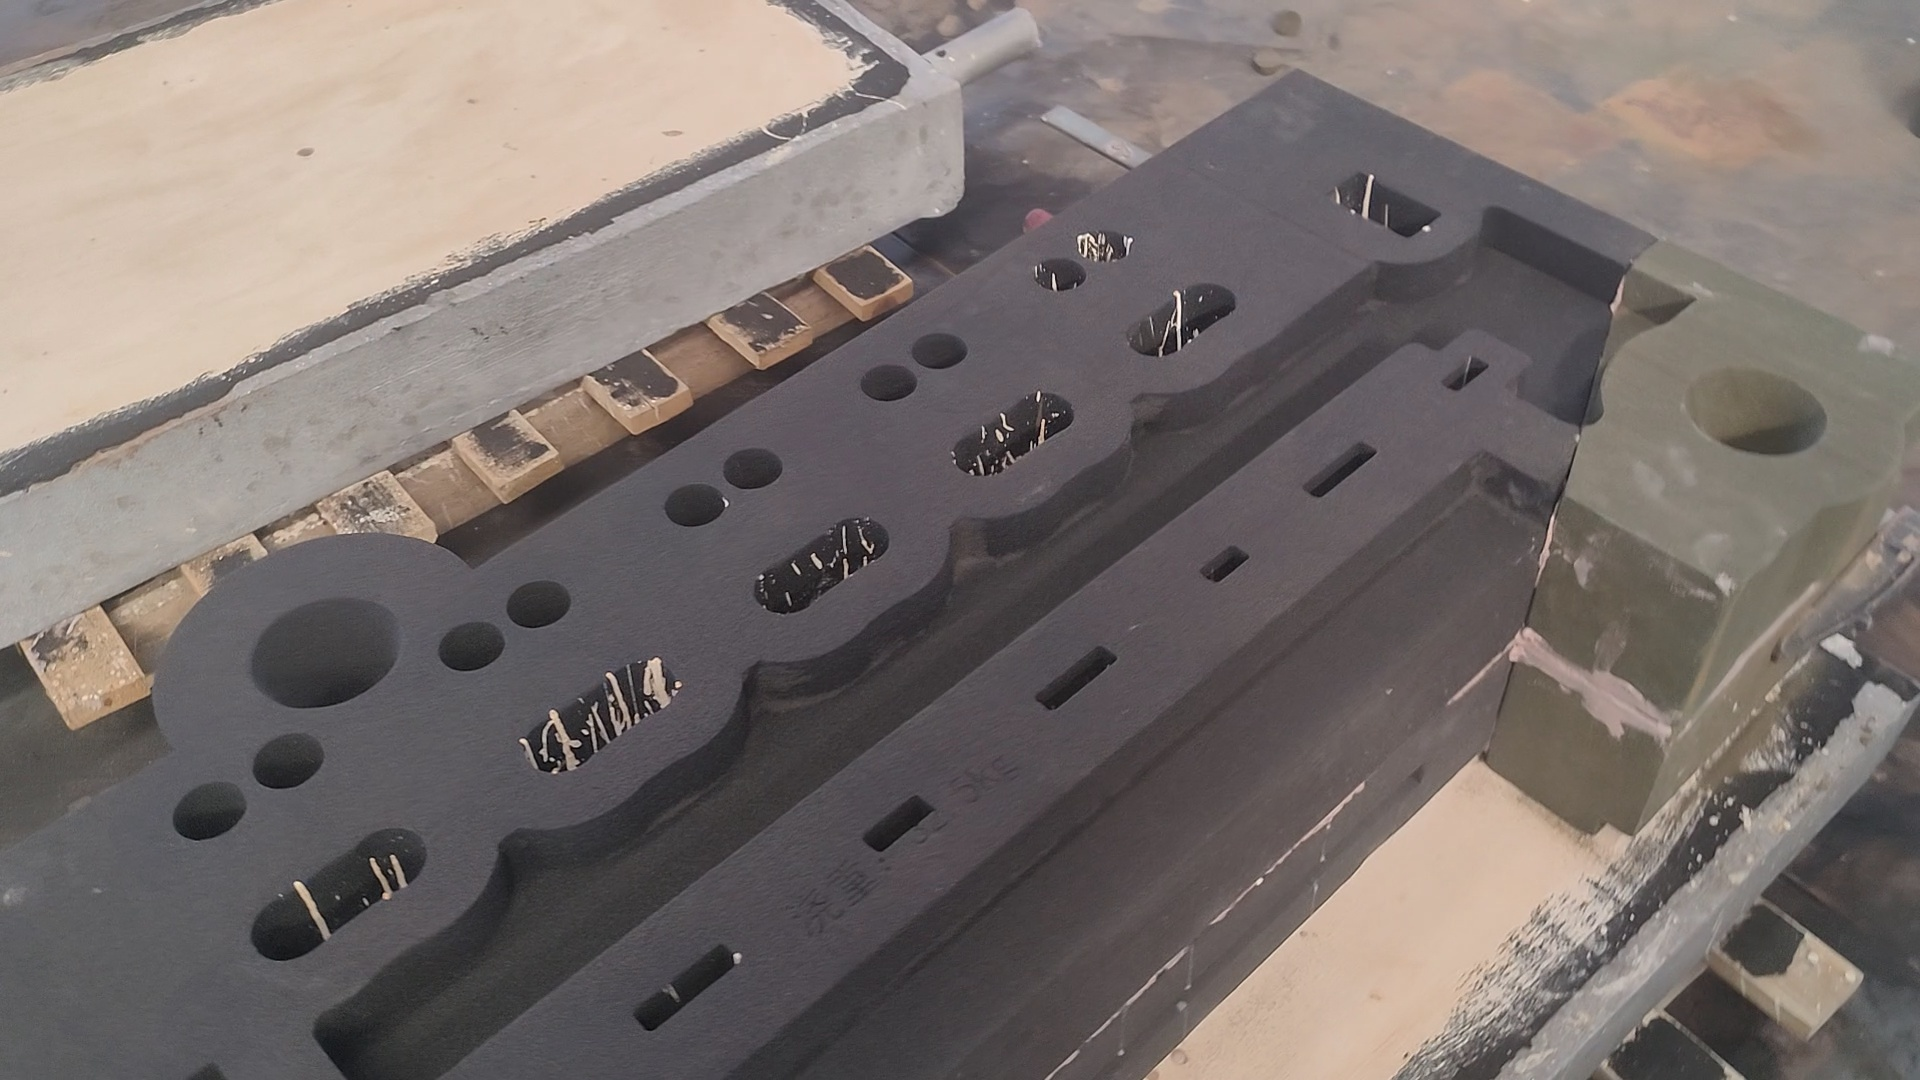pouring hole: (249, 597, 404, 711), (1685, 364, 1829, 458)
